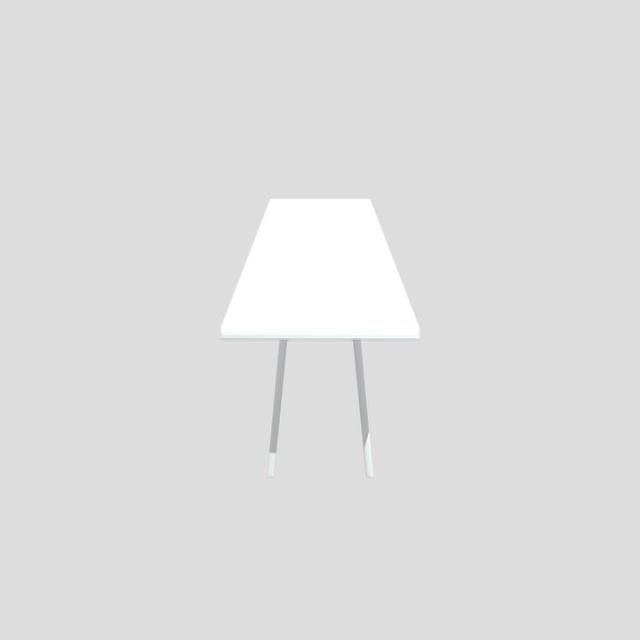table: (219, 192, 422, 477)
